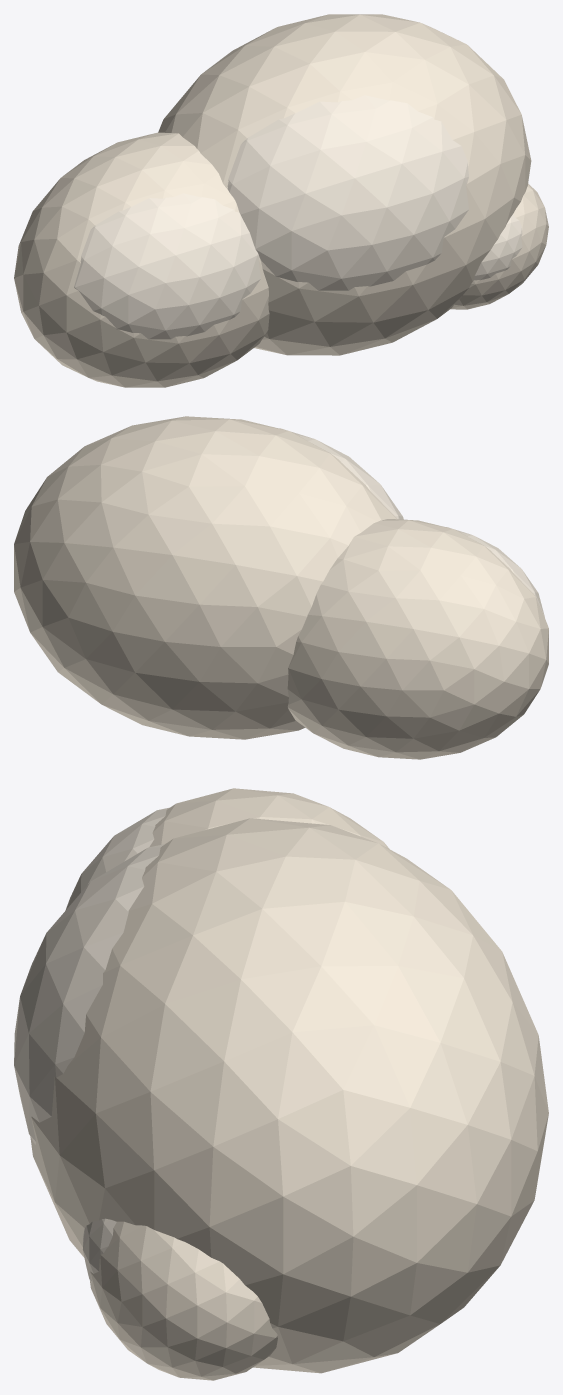
The model's file is shore_rocks_small.glb.
3 views of the same model, one above another, from view 1: azimuth 30°, elevation 25°; view 2: azimuth 150°, elevation 25°; view 3: azimuth 270°, elevation 25° (orthographic). The views are drawn at different scales.
Parts seen in each view (by area): view 1: shore_rocks_small_02, shore_rocks_small_03, shore_rocks_small_00, shore_rocks_small_01, shore_rocks_small_04, shore_rocks_small_05; view 2: shore_rocks_small_02, shore_rocks_small_00, shore_rocks_small_03, shore_rocks_small_01; view 3: shore_rocks_small_02, shore_rocks_small_04, shore_rocks_small_03, shore_rocks_small_00, shore_rocks_small_01, shore_rocks_small_05.
Boxes of the visible parts, x1,y1,x2,y2 form: shore_rocks_small_02: (158,14,531,355); shore_rocks_small_03: (227,95,468,290); shore_rocks_small_00: (14,132,269,387); shore_rocks_small_01: (74,193,260,339); shore_rocks_small_04: (450,183,548,309); shore_rocks_small_05: (473,214,522,280); shore_rocks_small_02: (14,416,397,739); shore_rocks_small_00: (287,519,548,759); shore_rocks_small_03: (279,428,403,519); shore_rocks_small_01: (446,527,544,617); shore_rocks_small_02: (30,818,548,1373); shore_rocks_small_04: (90,1221,277,1380); shore_rocks_small_03: (14,844,164,1144); shore_rocks_small_00: (149,788,389,848); shore_rocks_small_01: (65,807,169,910); shore_rocks_small_05: (82,1218,116,1283).
Bounding box in the file's own units: 1.77 × 1.03 × 1.04.
